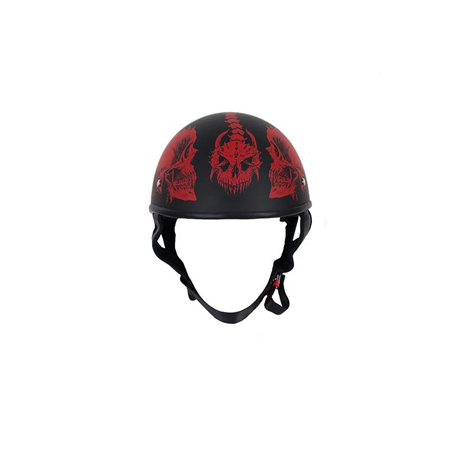with_helmet: (147, 106, 314, 279)
